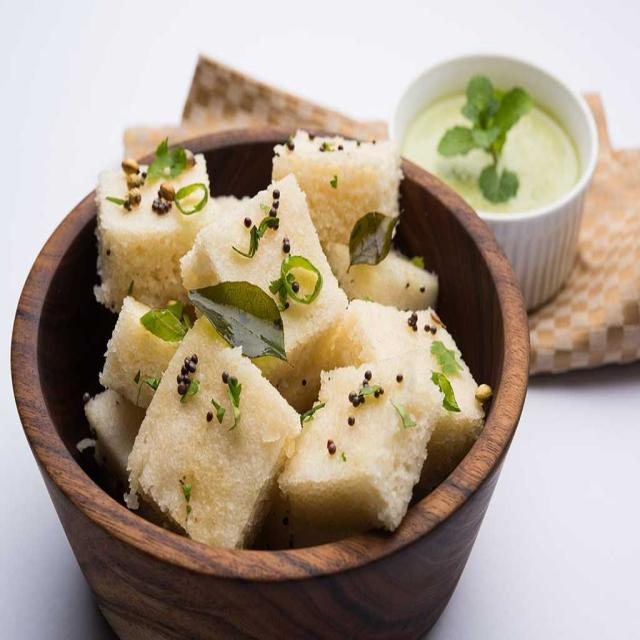dhokla: (69, 130, 466, 544)
